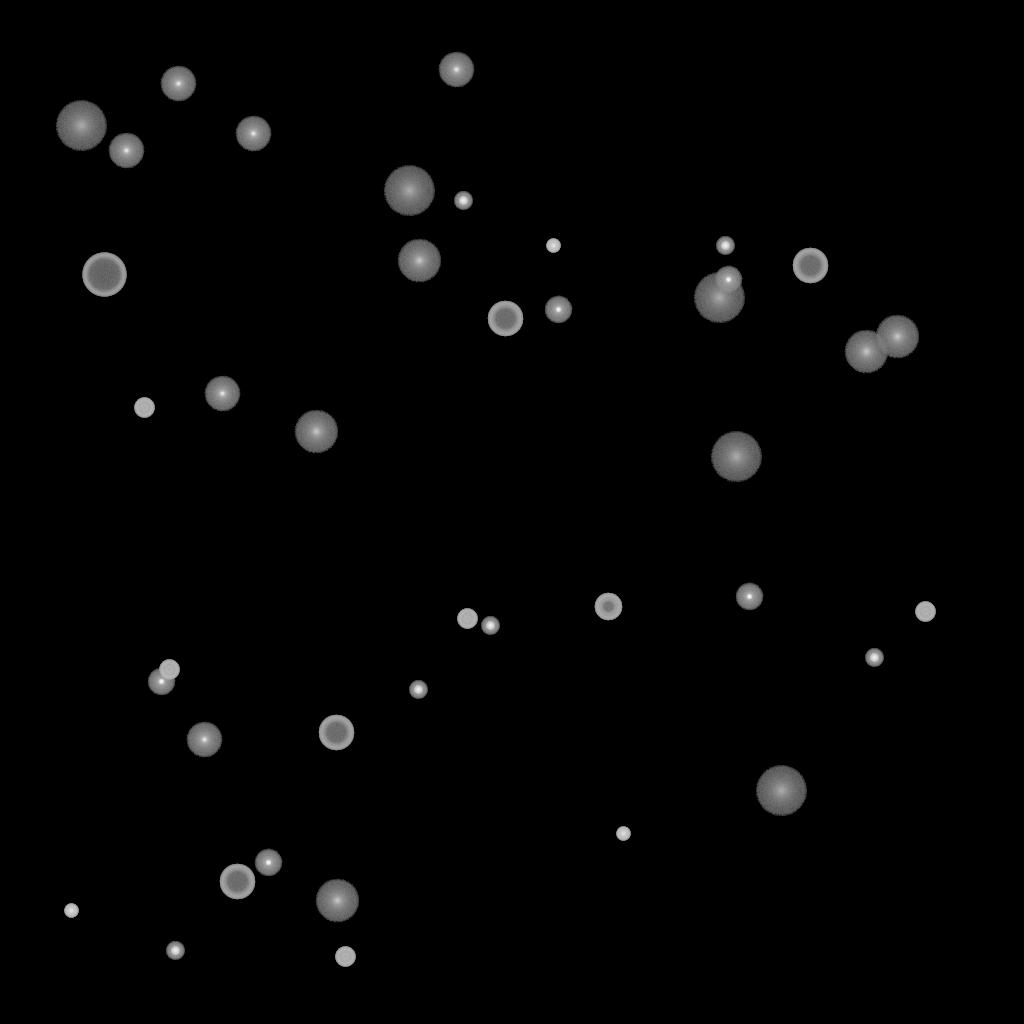depth:-10: (147, 668, 175, 696), (544, 296, 572, 324), (735, 583, 763, 611), (254, 849, 282, 877), (714, 266, 742, 294)
depth:-20: (481, 617, 499, 635), (865, 649, 883, 667), (409, 681, 427, 699), (166, 942, 184, 960), (454, 192, 472, 210), (716, 237, 734, 255)
depth:-30: (64, 904, 78, 918), (546, 239, 560, 253), (616, 827, 630, 841)
depth:-40: (134, 398, 154, 418), (915, 602, 935, 622), (159, 660, 179, 680), (335, 947, 355, 967), (457, 609, 477, 629)
depth:-50: (594, 593, 622, 621)
depth:-60: (792, 248, 828, 284), (318, 715, 354, 751), (487, 301, 523, 337), (219, 864, 255, 900)
depth:-70: (82, 253, 126, 297)
depth:0: (160, 66, 196, 102), (186, 722, 222, 758), (108, 133, 144, 169), (235, 116, 271, 152), (204, 376, 240, 412), (438, 52, 474, 88)
depth:10: (294, 410, 338, 454), (875, 315, 919, 359), (315, 879, 359, 923), (397, 239, 441, 283), (844, 330, 888, 374)
depth:20: (710, 432, 762, 482), (55, 101, 107, 151), (693, 273, 745, 323), (383, 166, 435, 216), (755, 766, 807, 816)
